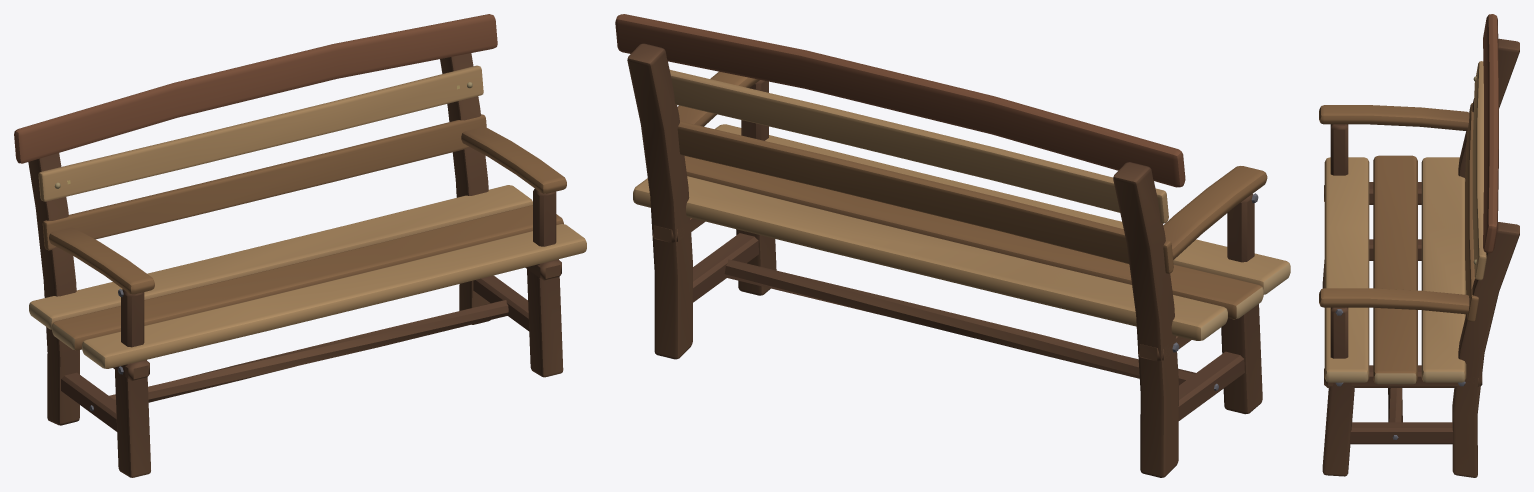
File: pr_bench.glb
The picture shows the model from 3 angles, left to right: view 1: azimuth 30°, elevation 25°; view 2: azimuth 150°, elevation 25°; view 3: azimuth 270°, elevation 25°; orthographic projection. The views are drawn at different scales.
Parts seen in each view (by area): view 1: PR_bench__body; view 2: PR_bench__body; view 3: PR_bench__body.
Boxes of the visible parts, x1,y1,x2,y2 form: PR_bench__body: (14, 14, 586, 477); PR_bench__body: (615, 14, 1290, 477); PR_bench__body: (1319, 14, 1519, 477).
Bounding box in the file's own units: 2.03 × 1.17 × 0.7877.
